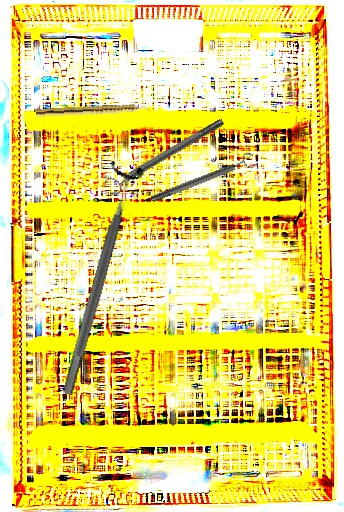Fixation Ring: (48, 160, 147, 399), (102, 113, 229, 198), (147, 150, 258, 208)
Handpiece: (35, 103, 151, 119)
